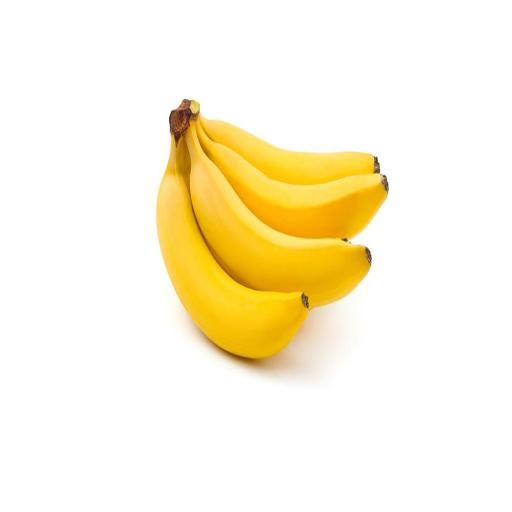banana: (185, 121, 371, 308), (157, 137, 307, 357), (196, 123, 388, 238), (200, 115, 379, 184)
